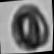correct: (6, 0, 53, 54)
